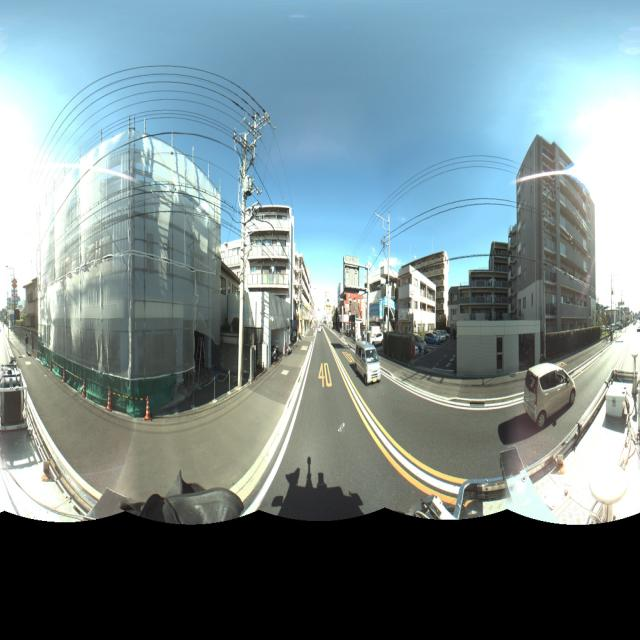b_1: (35, 140, 221, 388), (515, 136, 595, 334), (243, 202, 294, 358), (448, 236, 511, 332), (407, 244, 455, 323), (367, 253, 400, 345), (393, 264, 435, 334), (294, 252, 322, 338), (336, 253, 364, 338), (225, 235, 247, 328)
b_2: (212, 230, 251, 348), (405, 248, 452, 326), (20, 278, 52, 340)
